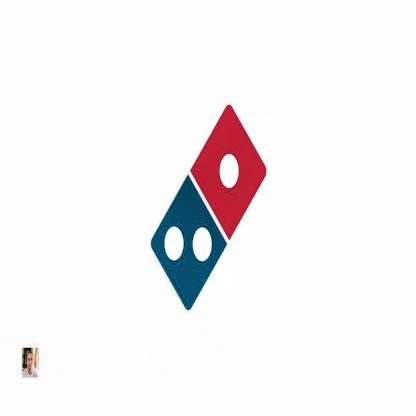Domino-s: (151, 103, 267, 312)
